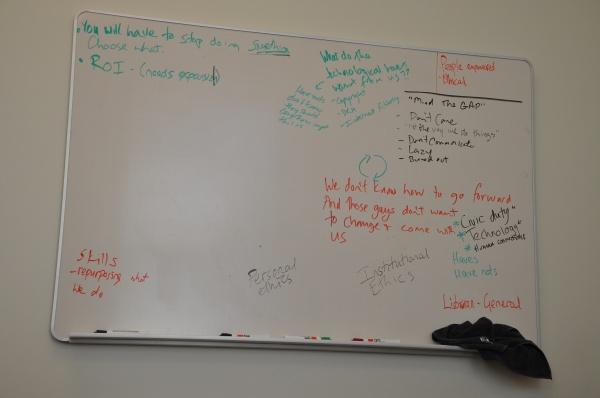Whiteboard: (48, 8, 542, 359)
